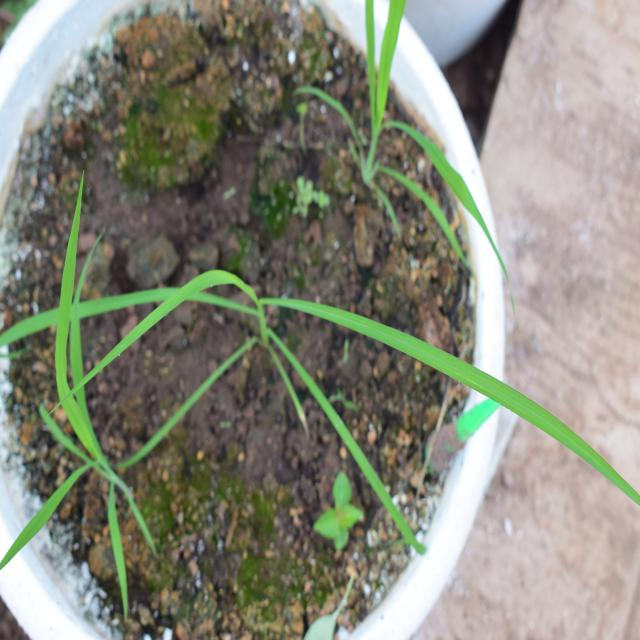barnyard_grass: (38, 220, 637, 545)
